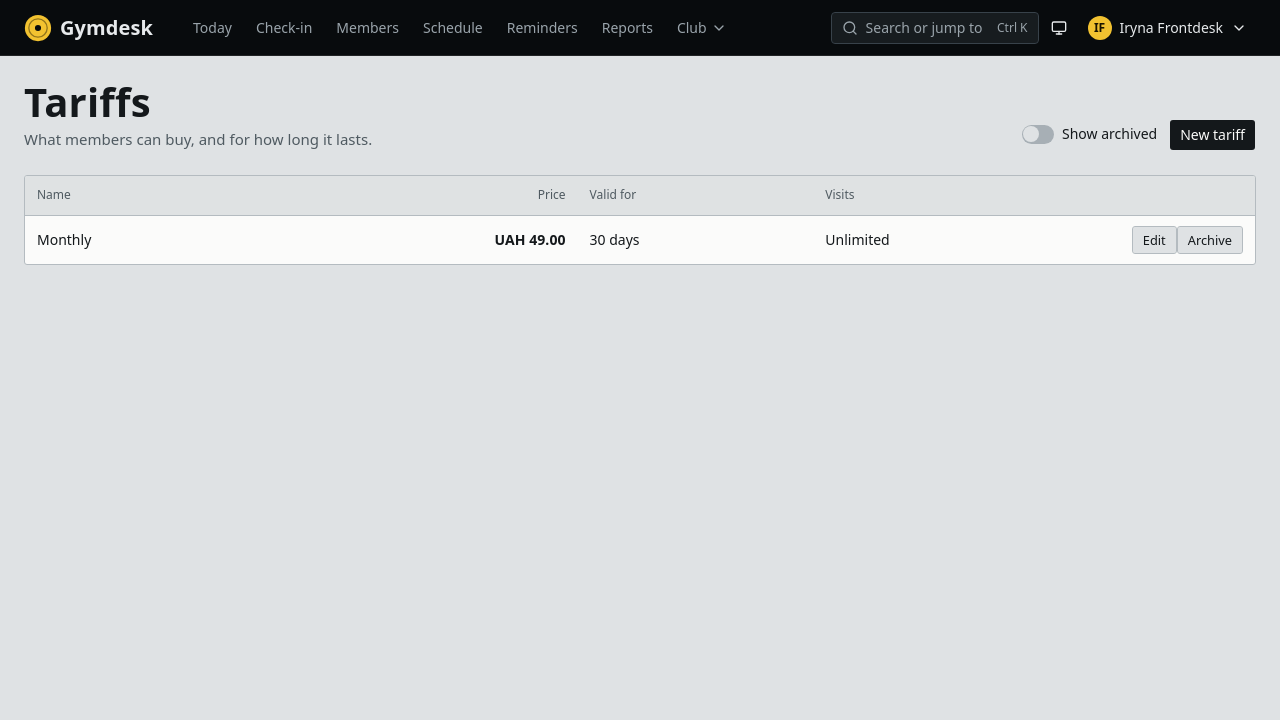
creating a tariff › explains what is wrong before sending anything
Expected: the heading "Tariffs" is shown, [24,74,151,129]
Step 1. Click the button "New tariff" → (1213, 134), box [1169,118,1256,150]
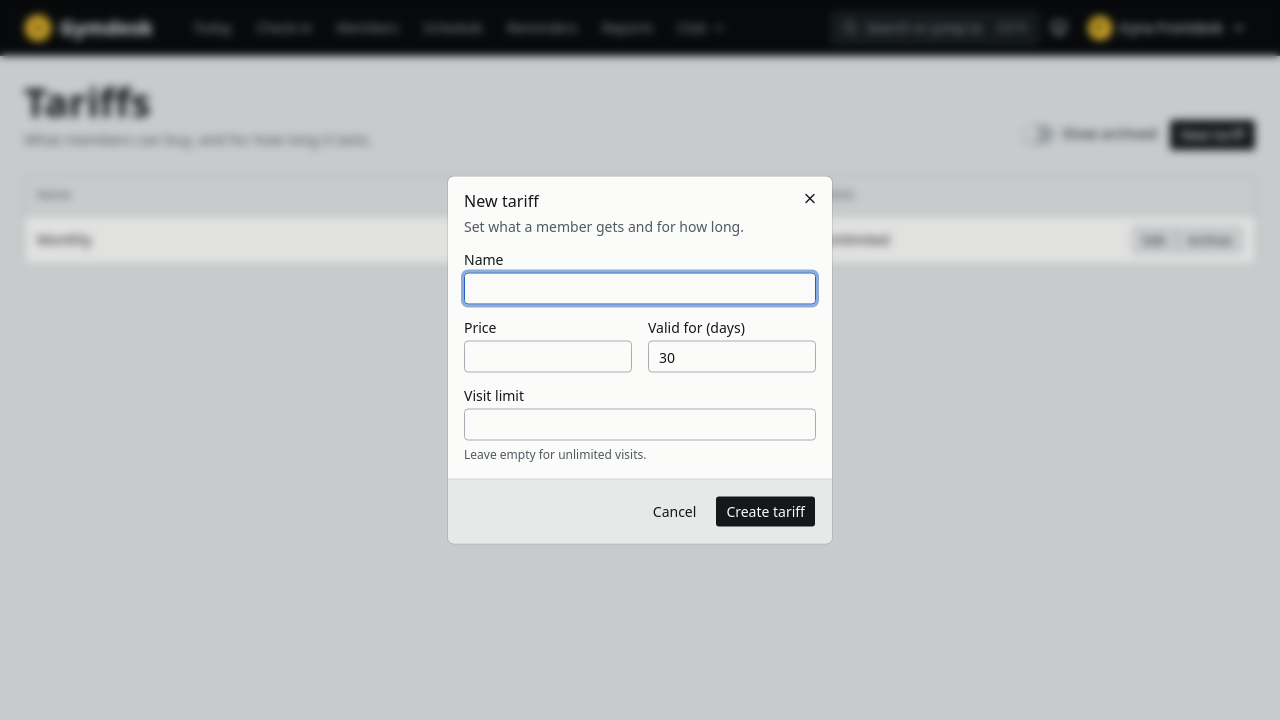
Step 2. Click the button "Create tariff" → (766, 512), box [715,496,816,528]
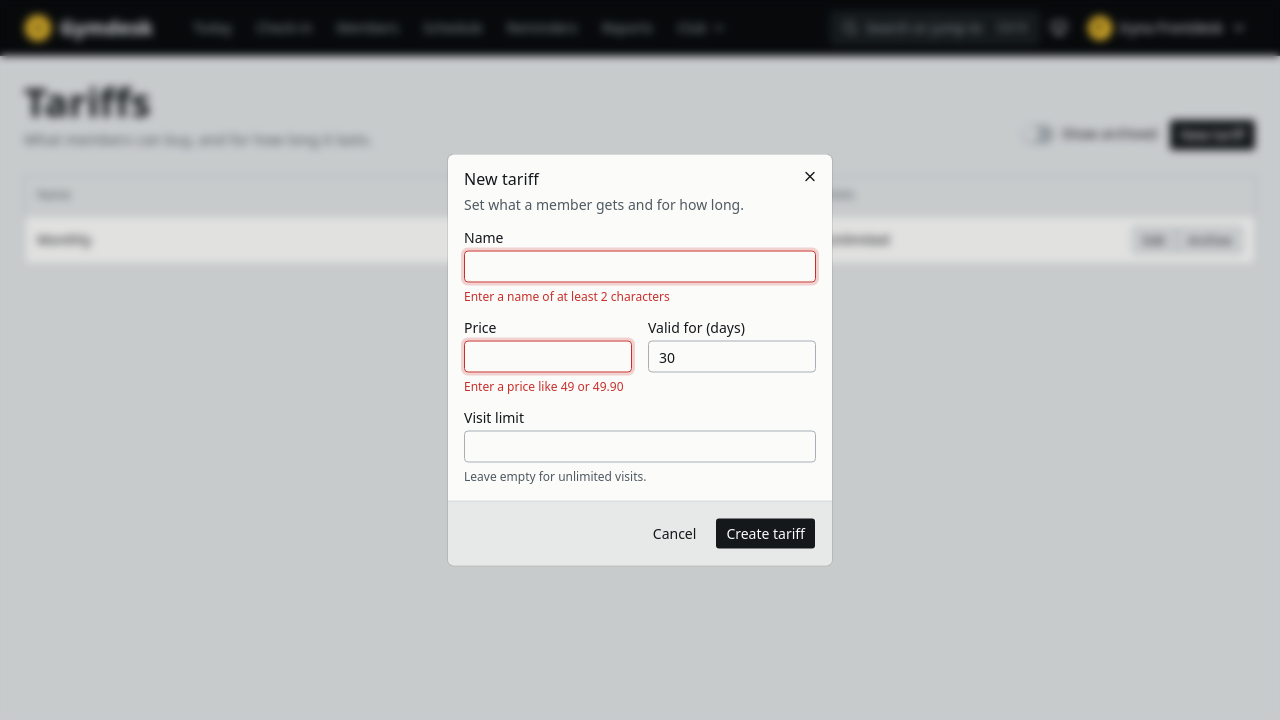
Now the text "Enter a name of at least 2 characters" is shown, box [464,288,670,304]
Now the text "Enter a price like 49 or 49.90" is shown, box [464,378,632,394]
